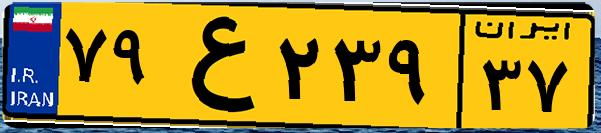2: (270, 28, 330, 110)
3: (330, 28, 385, 110), (475, 38, 525, 113)
7: (57, 26, 110, 100), (525, 38, 570, 115)
9: (385, 28, 445, 110), (110, 28, 158, 98)
ع: (158, 12, 270, 120)
